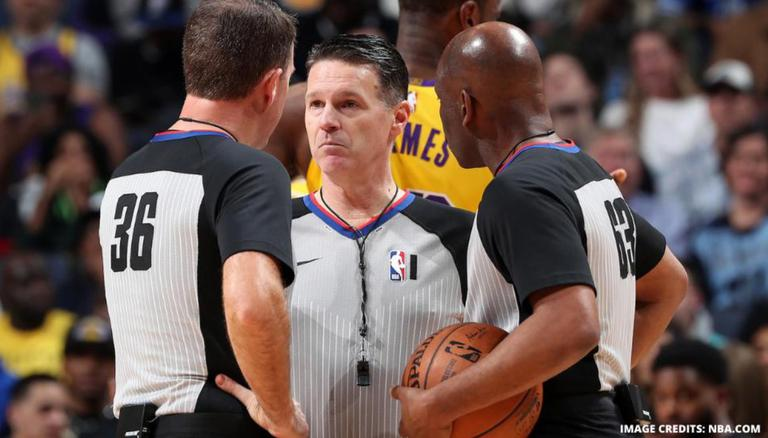b_ball: (397, 317, 552, 438)
face: (309, 43, 401, 175)
referee: (430, 24, 682, 438), (94, 2, 316, 438), (293, 27, 465, 438)
